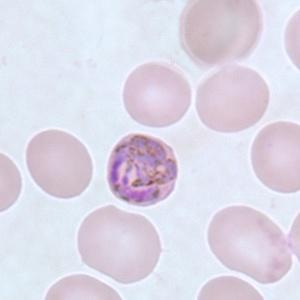Infected: (107, 137, 176, 204)
Uninfected: (78, 205, 163, 285), (207, 206, 292, 284), (182, 0, 263, 64), (196, 67, 271, 135), (27, 130, 94, 200), (123, 63, 192, 128), (249, 121, 300, 193)
